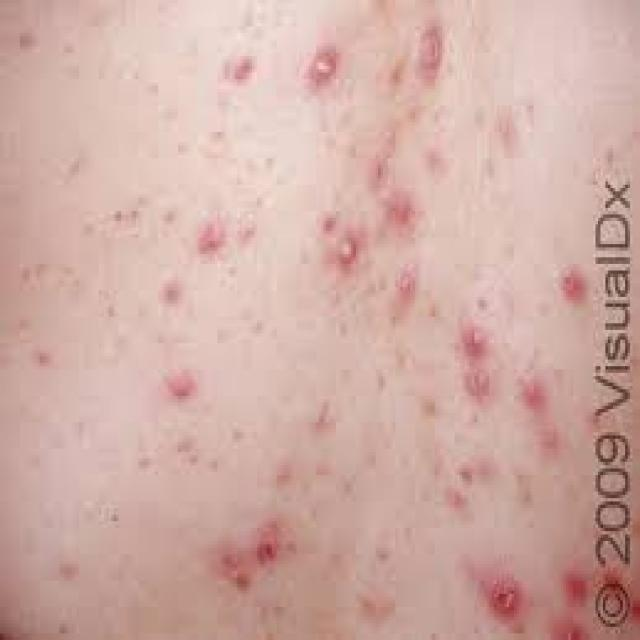Acne: (205, 520, 283, 596), (458, 552, 527, 625), (314, 207, 367, 276), (414, 14, 446, 93), (301, 39, 339, 94), (552, 256, 590, 306), (158, 360, 200, 404), (217, 49, 262, 90), (380, 188, 420, 234), (557, 560, 593, 610), (390, 255, 422, 306), (193, 215, 228, 260), (458, 363, 495, 403), (546, 610, 595, 640), (514, 368, 546, 412), (459, 318, 493, 359)
